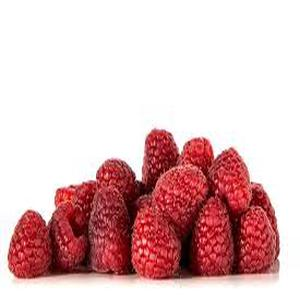raspb: (2, 113, 292, 294)
